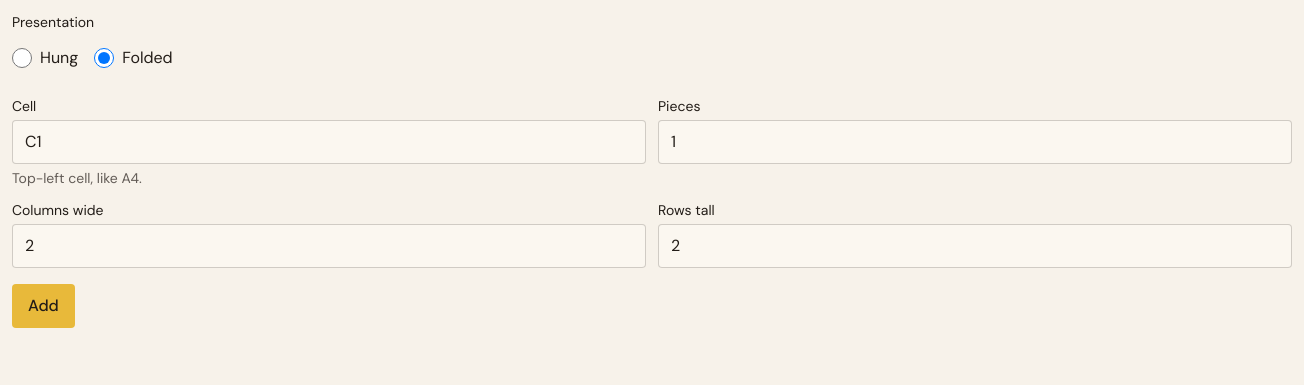
Test case: PlacementForm › names the rule a placement breaks, and doesn't submit
Replace the text in the field labelled "Cell" with "B1": (329, 142) [12,120,646,164]
Click the button "Add": (43, 306) [12,284,75,328]
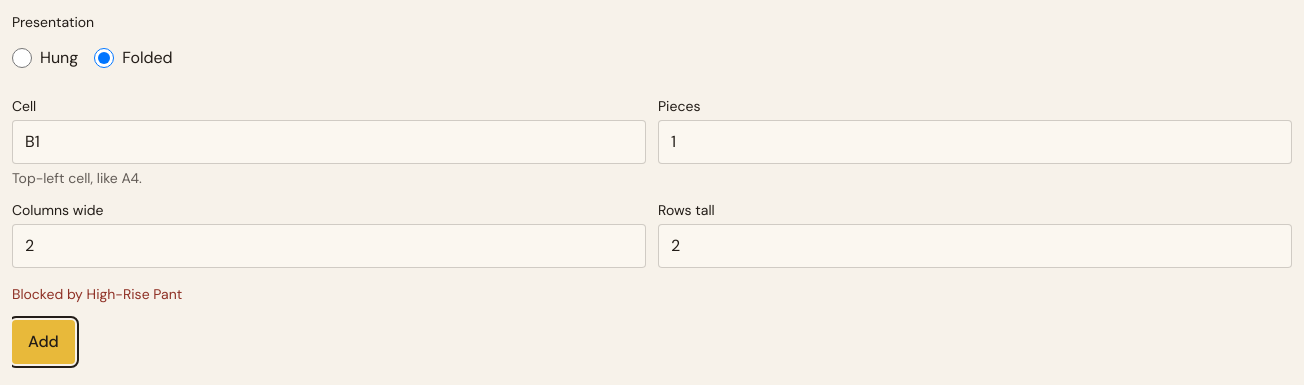
Expected: the text "Blocked by High-Rise Pant" is shown, [12,285,182,303]
Replace the text in the field labelled "Cell" with "C1": (329, 142) [12,120,646,164]
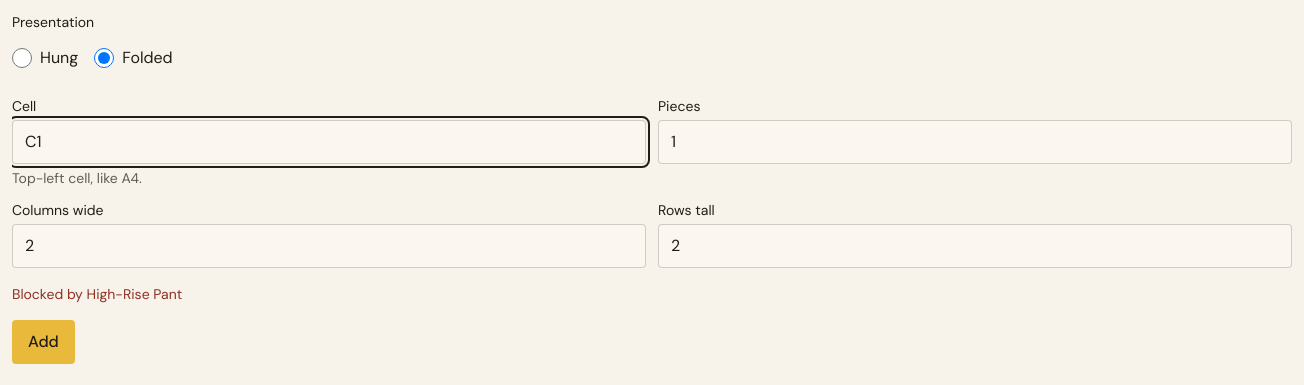
Replace the text in the field labelled "Pieces" with "9": (975, 142) [658,120,1292,164]
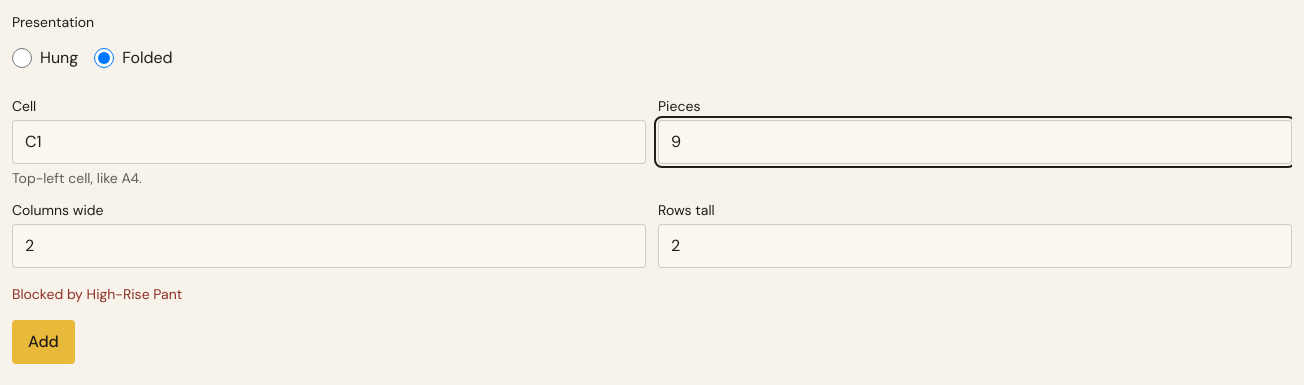
Click the button "Add": (43, 342) [12,320,75,364]
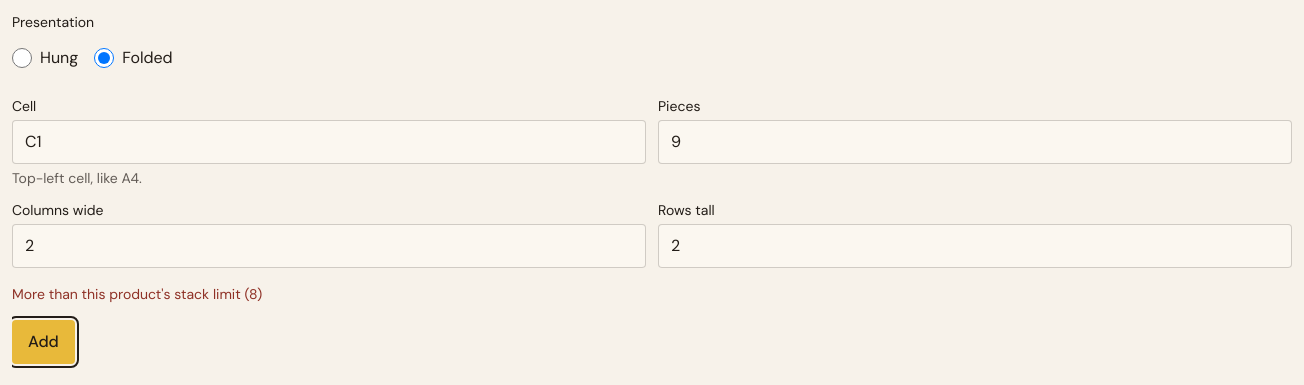
Expected: the text "More than this product's stack limit (8)" is shown, [12,285,262,303]
Replace the text in the field labelled "Cell" with "zz": (329, 142) [12,120,646,164]
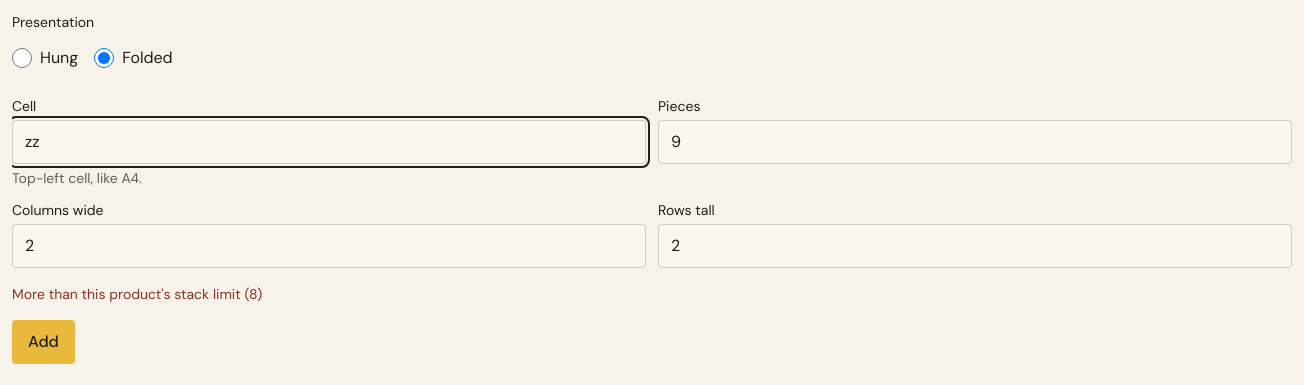
Click the button "Add": (43, 342) [12,320,75,364]
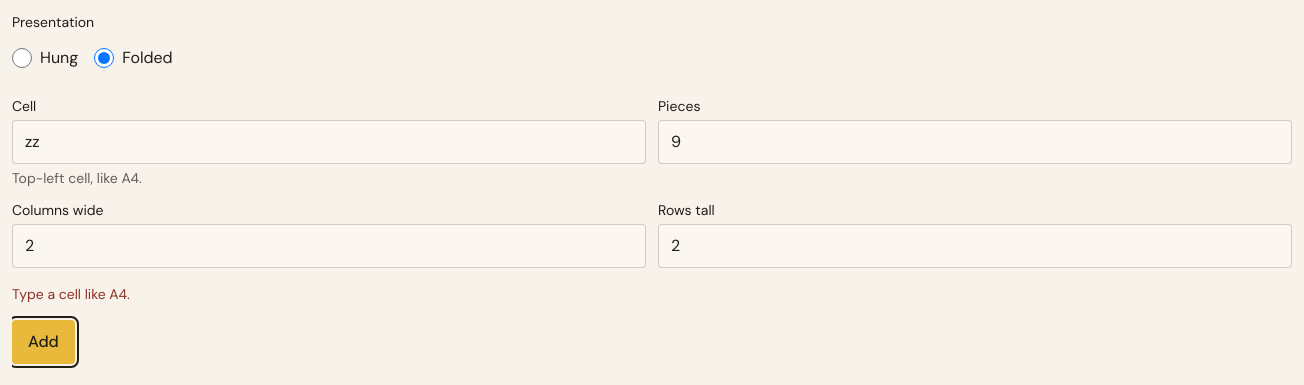
Expected: the text "Type a cell like A4." is shown, [12,285,130,303]
